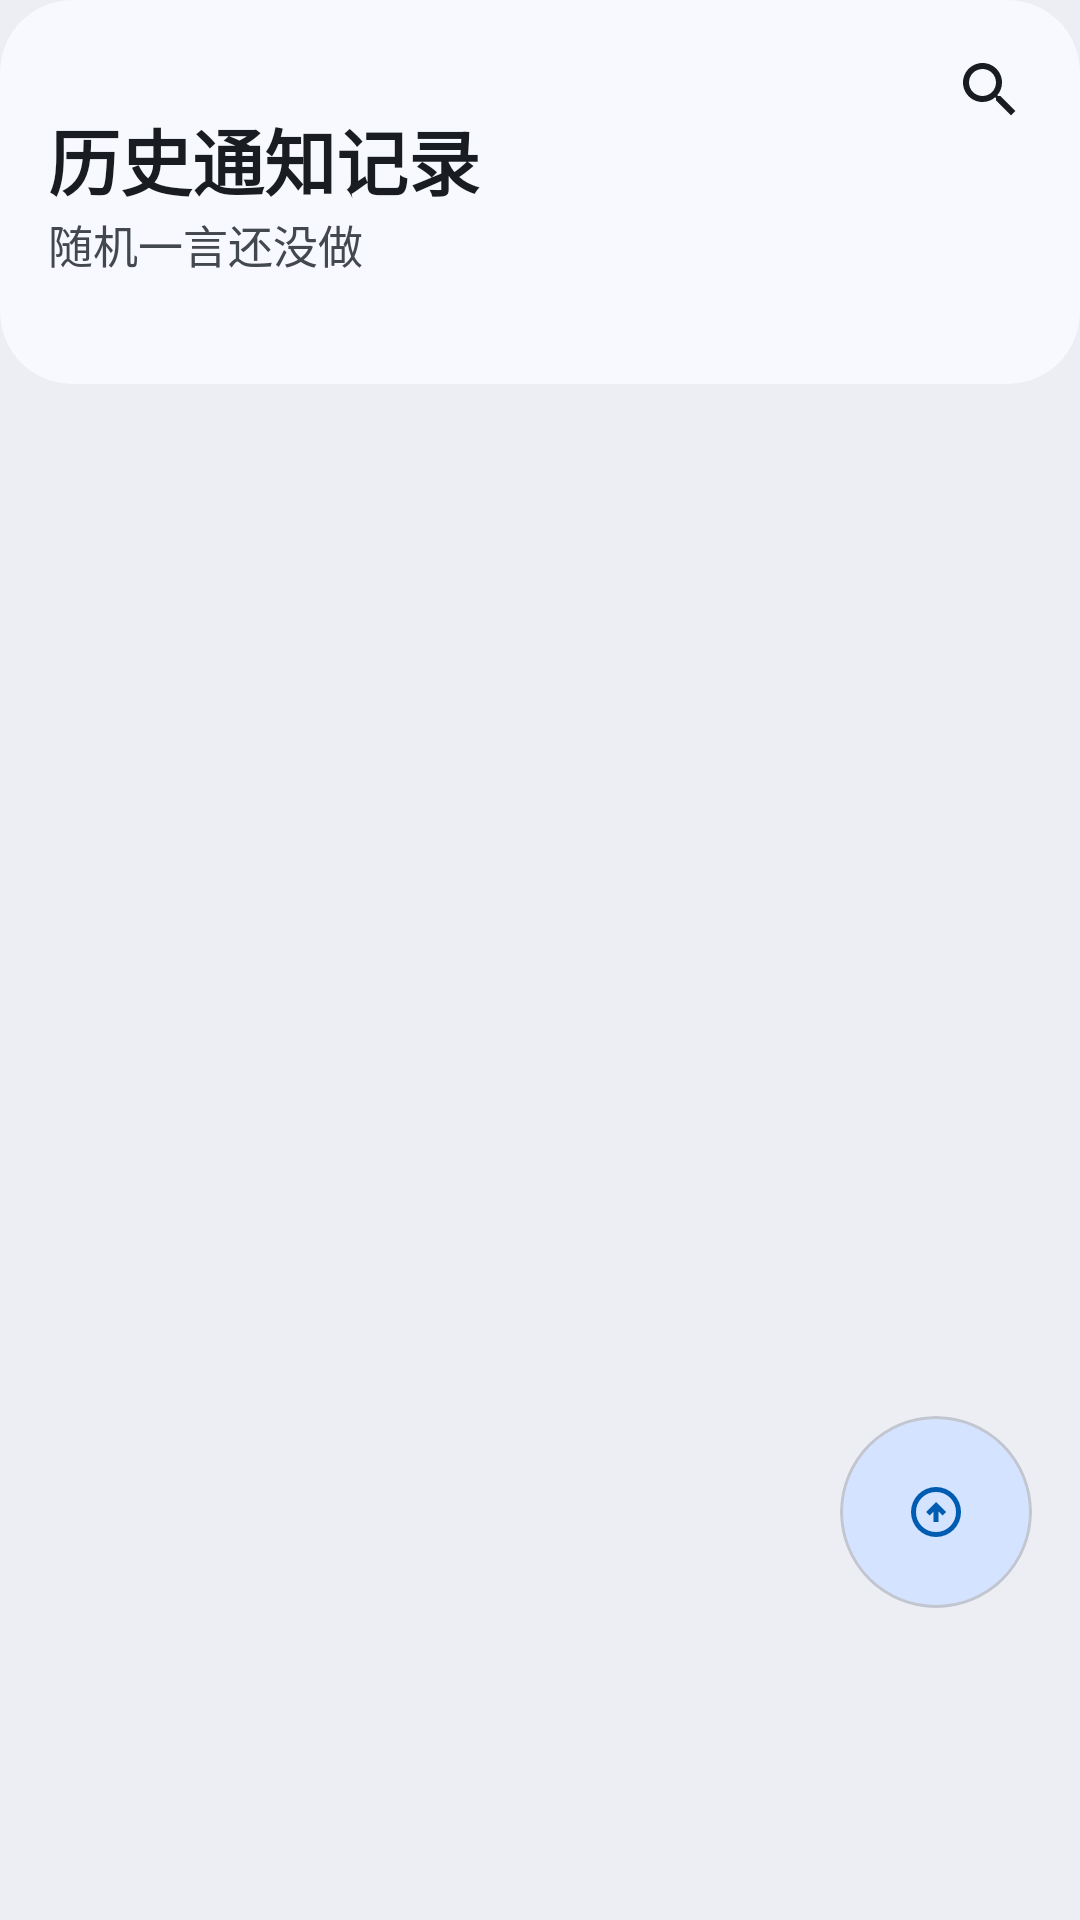

Screen size 1080px x 1920px. Icon name, then its box in pixels as [left=x1, top=y1, right=x2, bottom=y2]:
搜索通知: [left=963, top=63, right=1015, bottom=115]
